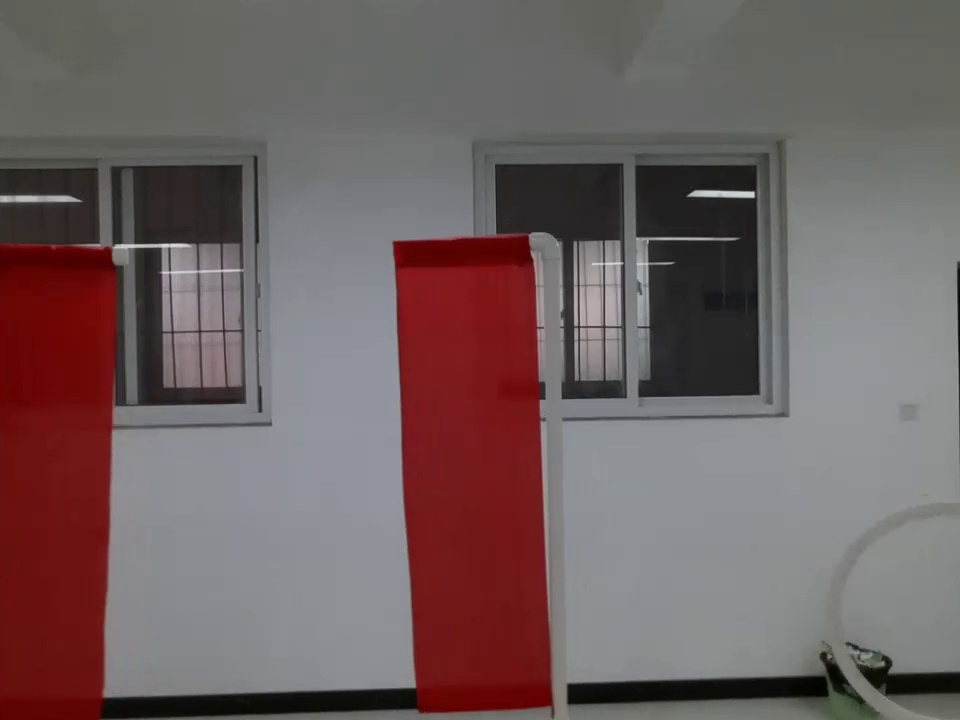qi: (388, 239, 553, 720), (1, 244, 107, 720)
quan: (821, 496, 960, 720)
